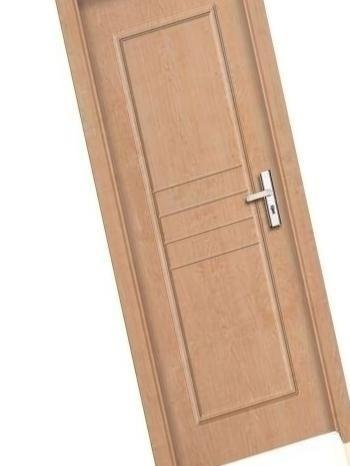door: (55, 0, 350, 466)
